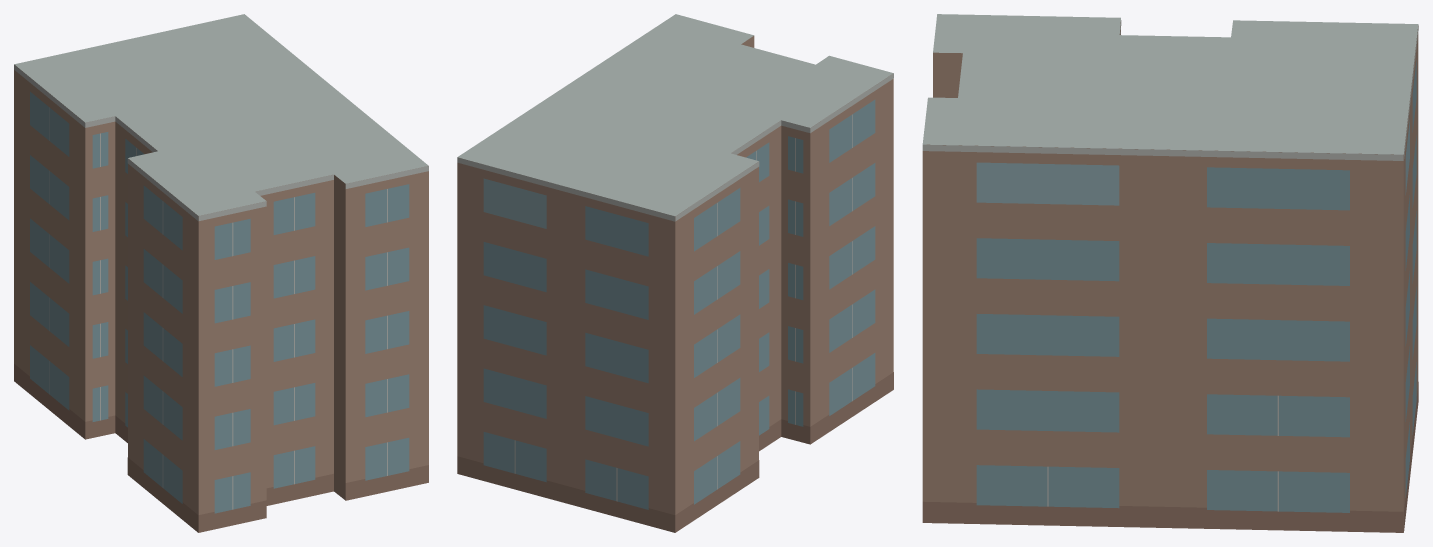
File: survey-upis-32837920.glb
The picture shows the model from 3 angles, left to right: view 1: azimuth 30°, elevation 25°; view 2: azimuth 150°, elevation 25°; view 3: azimuth 270°, elevation 25°; orthographic projection. The views are drawn at different scales.
Parts seen in each view (by area): view 1: survey-upis-32837920.tmp; view 2: survey-upis-32837920.tmp; view 3: survey-upis-32837920.tmp.
Boxes of the visible parts, x1,y1,x2,y2 form: survey-upis-32837920.tmp: (14, 14, 428, 532); survey-upis-32837920.tmp: (457, 14, 893, 532); survey-upis-32837920.tmp: (922, 14, 1418, 532).
Bounding box in the file's own units: 11.53 × 14.44 × 17.17.
